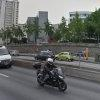Motorcycle: (28, 53, 72, 96)
